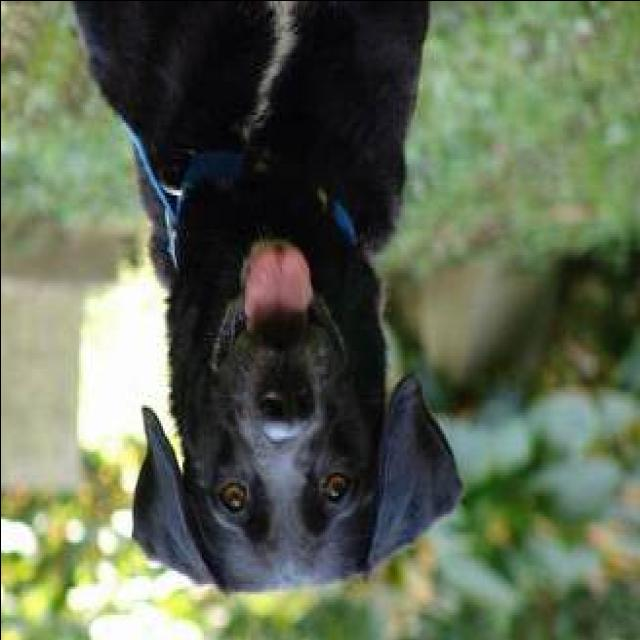dog: (29, 0, 471, 604)
